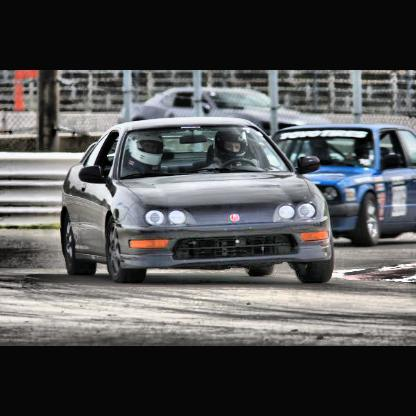Acura Integra Type R 2001: (63, 118, 336, 285)
